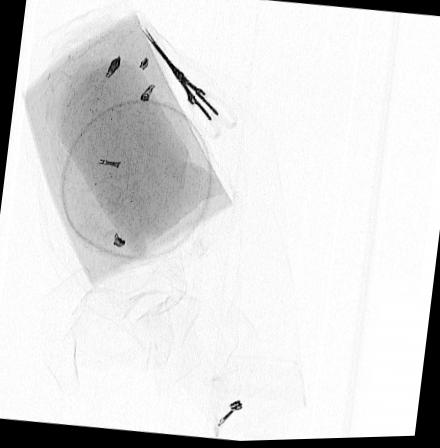Scissors: (139, 26, 238, 144)
